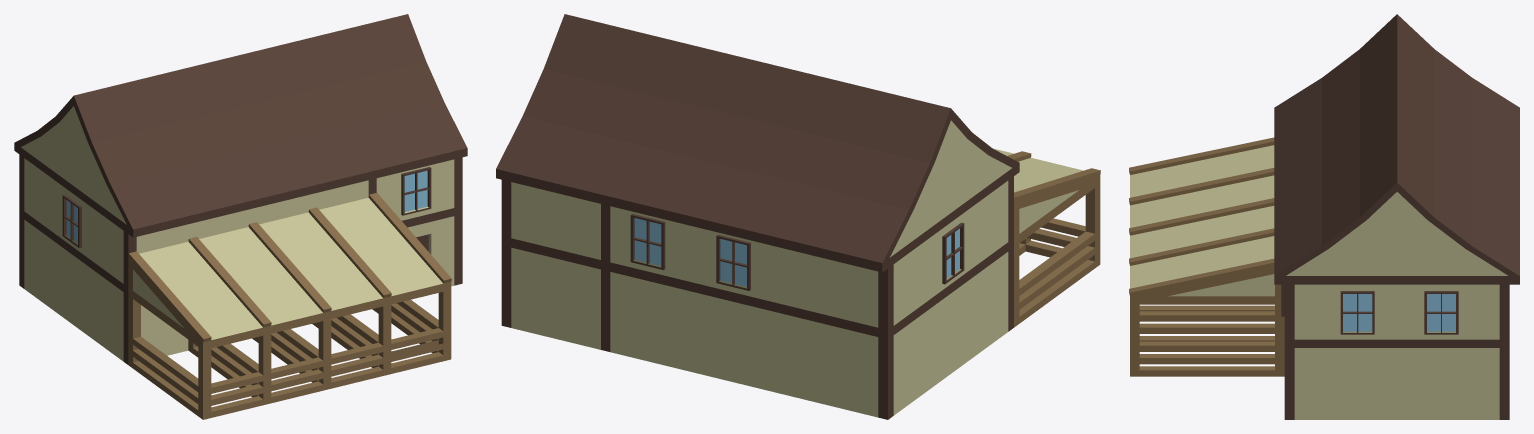
File: Stables.fbx
3 views of the same model, side by side, from view 1: azimuth 30°, elevation 25°; view 2: azimuth 150°, elevation 25°; view 3: azimuth 270°, elevation 25° (orthographic). The views are drawn at different scales.
Visible parts, largest first — view 1: Stables_LOD0; view 2: Stables_LOD0; view 3: Stables_LOD0.
Part boxes in pixels (x1,y1,x2,y2): Stables_LOD0: [14, 14, 467, 419]; Stables_LOD0: [496, 14, 1100, 419]; Stables_LOD0: [1129, 14, 1519, 419].
Size of what is drawn, in the model's own units: 1278 by 825 by 1231.
